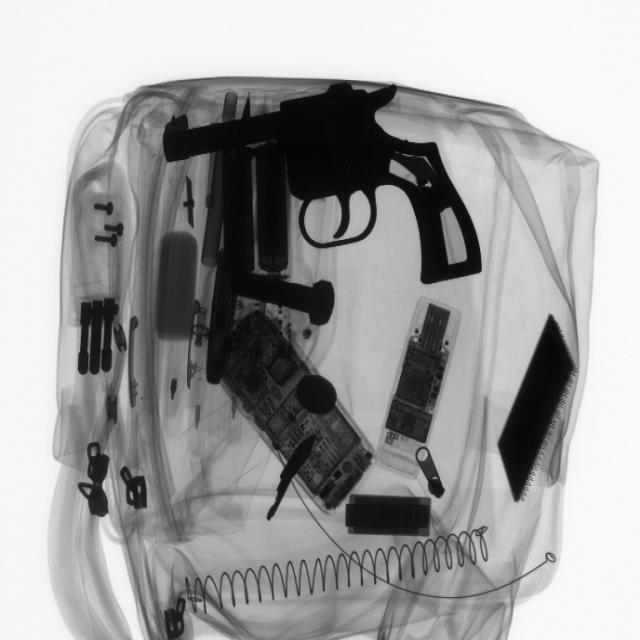GUN: (162, 79, 498, 297)
SCREW: (87, 185, 130, 260)
